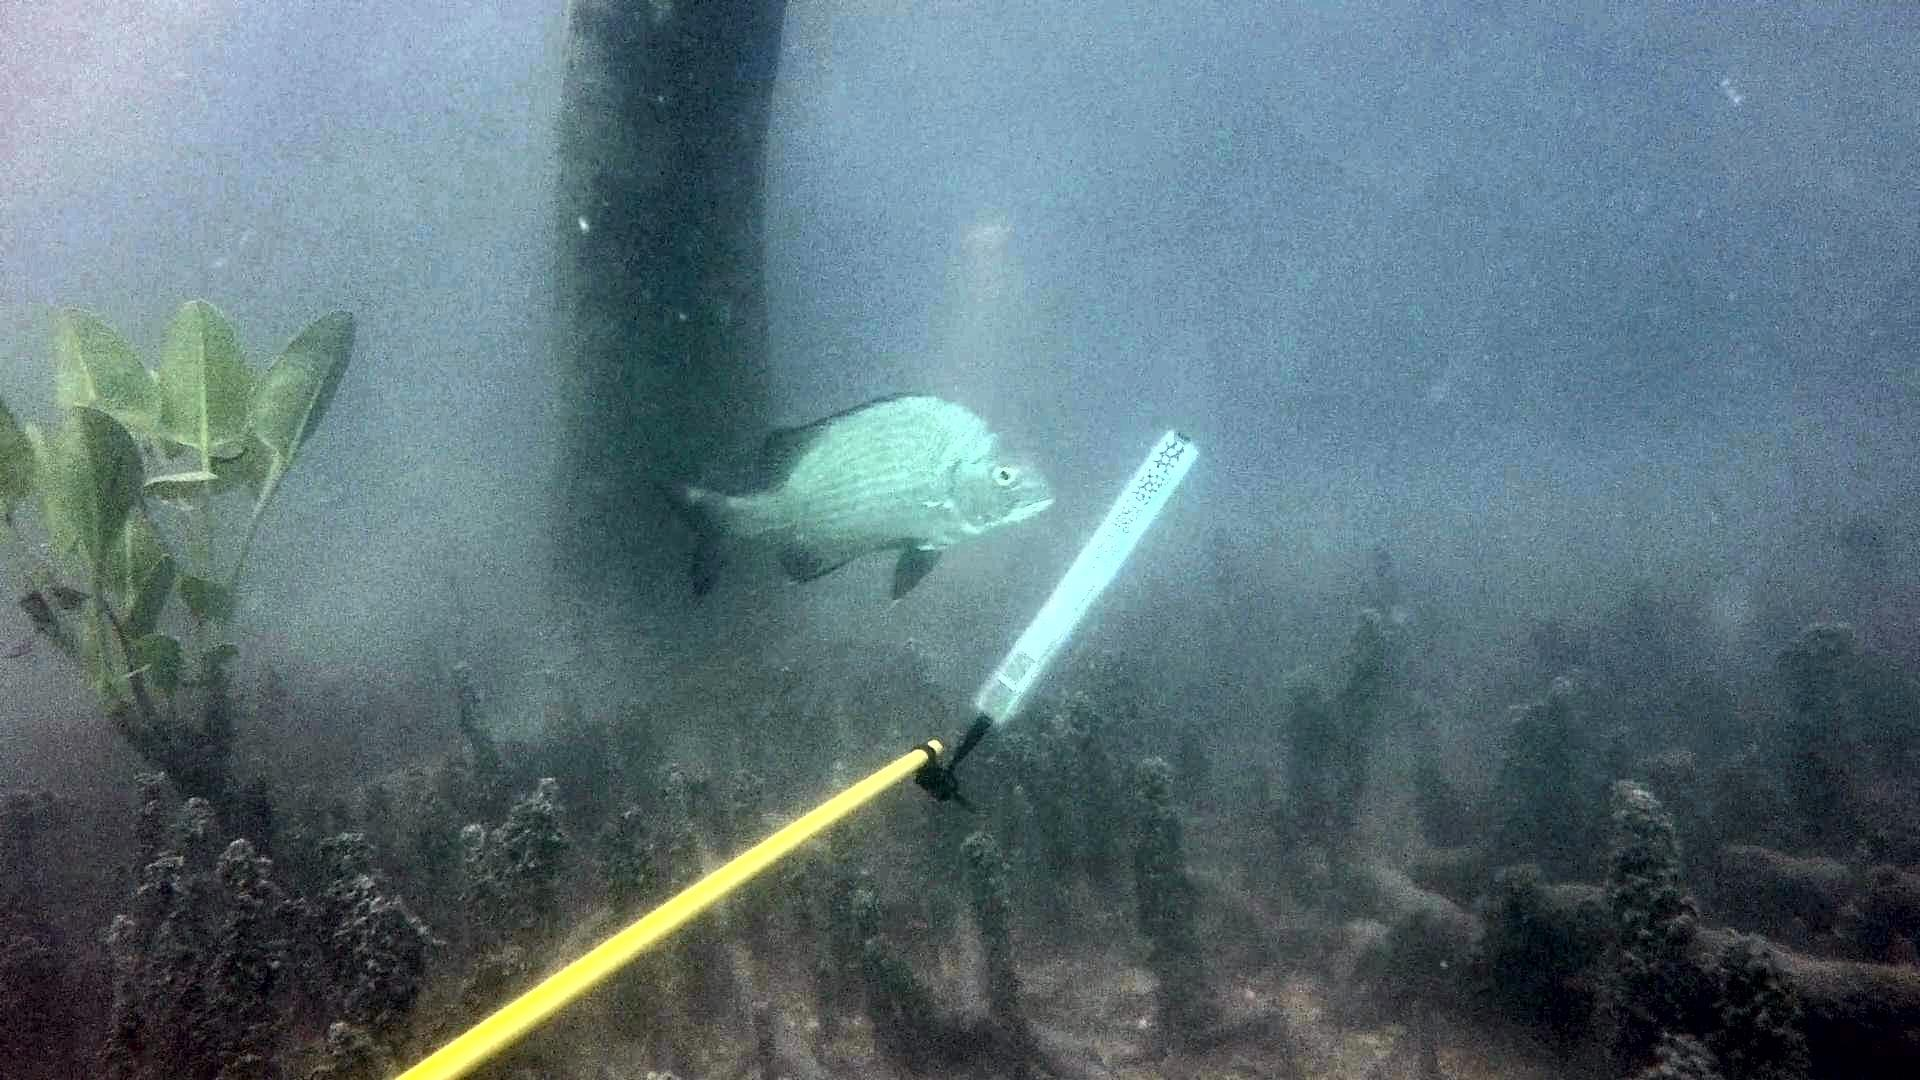acanthopagrus palmaris: (645, 385, 1060, 609)
